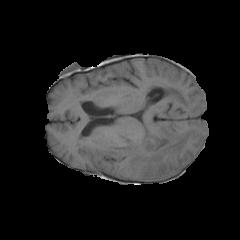glioma: (104, 124, 195, 179)
